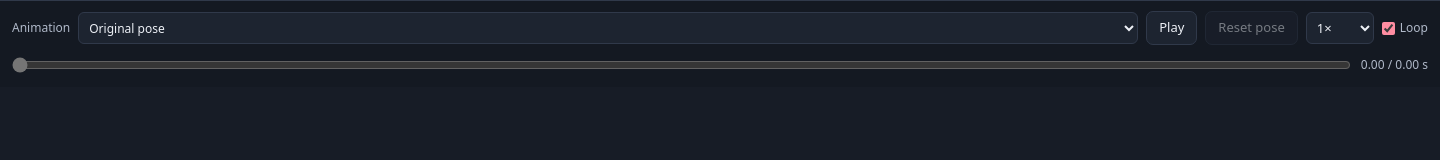
Test: selects and controls clips through labeled inputs, with scrubbing pausing playback
Click the button named "Play animation": (1172,28) [1146,11,1197,45]
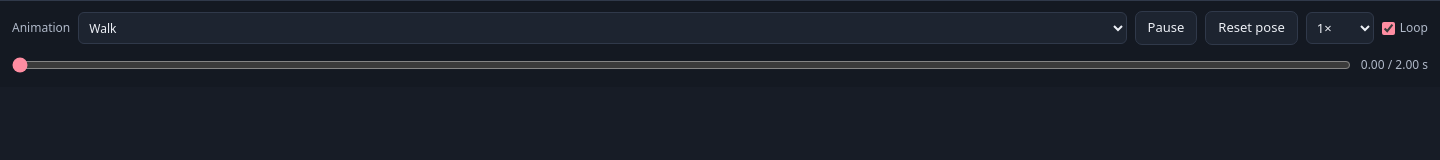
Expected: the button named "Pause animation" is enabled, [1134,11,1197,45]
Result: the dropdown named "Animation clip" shows "Walk" at [78,12,1127,44]
Set the slider named "Animation time" to "1.25": (847,65) [12,53,1351,77]
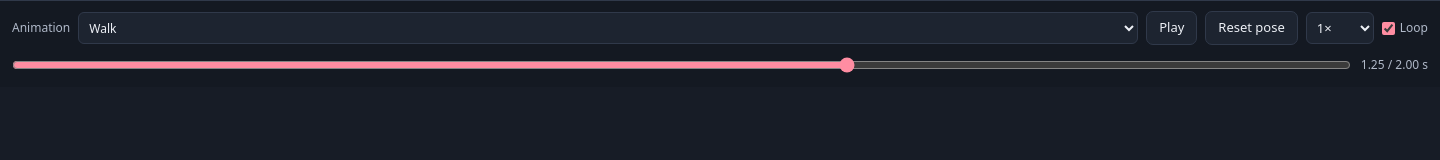
Select "0.5×" in the dropdown named "Playback speed": (1340,28) [1306,12,1374,44]
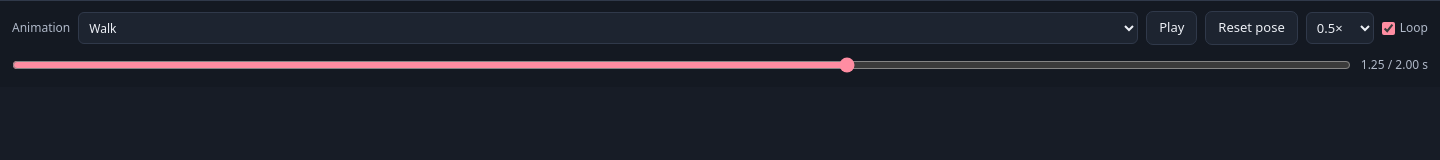
Click the checkbox labelled "Loop": (1388,28) [1382,22,1395,34]
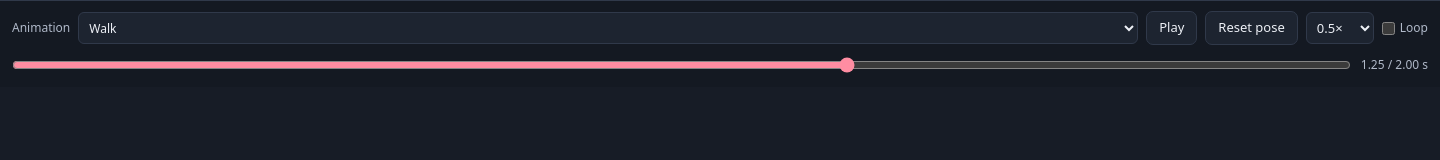
Click the button "Reset pose": (1252,28) [1205,11,1298,45]
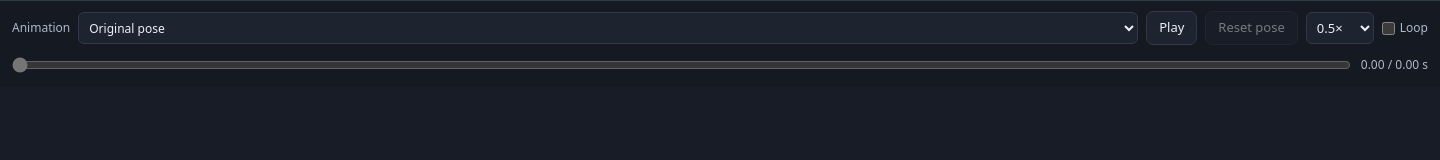
Result: the dropdown named "Animation clip" shows "Original pose" at [78,12,1138,44]
Result: the slider is disabled at [12,53,1351,77]
